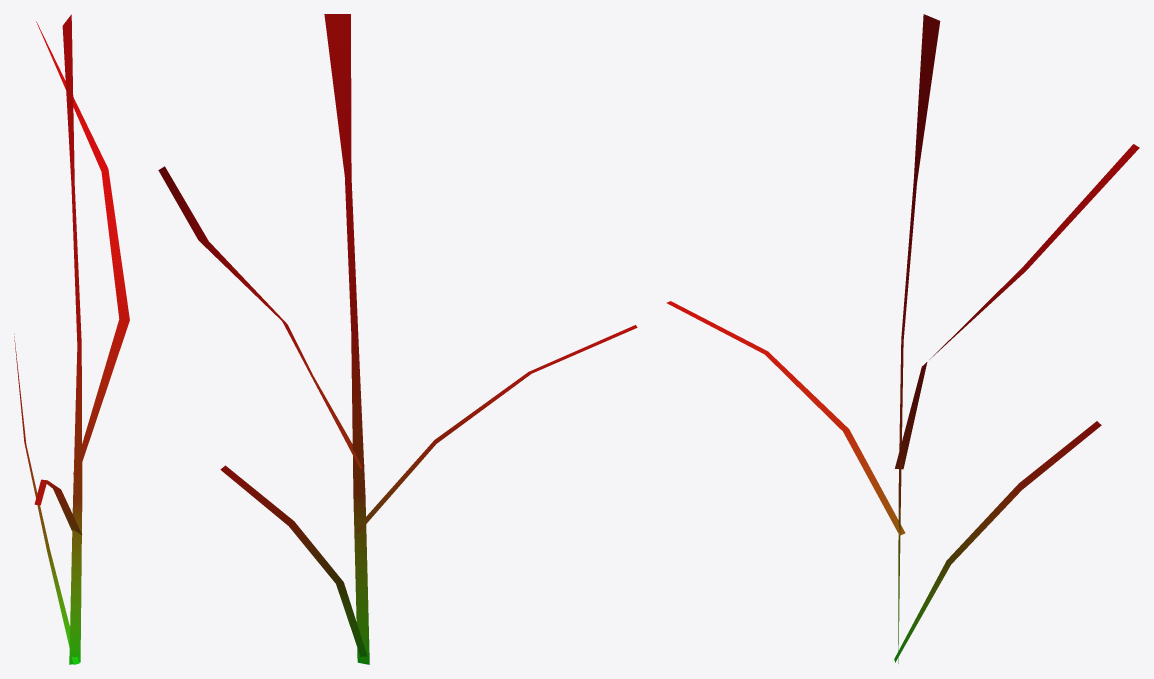
File: Tundra Grass_LOD3_Var15_wk2oaeyqx.fbx
The picture shows the model from 3 angles, left to right: view 1: azimuth 30°, elevation 25°; view 2: azimuth 150°, elevation 25°; view 3: azimuth 270°, elevation 25°; orthographic projection. The views are drawn at different scales.
Visible parts, largest first — view 1: _6emf_Var15_LOD3; view 2: _6emf_Var15_LOD3; view 3: _6emf_Var15_LOD3.
Boxes of the visible parts, x1,y1,x2,y2 form: _6emf_Var15_LOD3: (14,14,129,664); _6emf_Var15_LOD3: (158,14,637,664); _6emf_Var15_LOD3: (666,14,1139,663).
Size of the model in its own units: 10.54 by 25.77 by 17.02.
